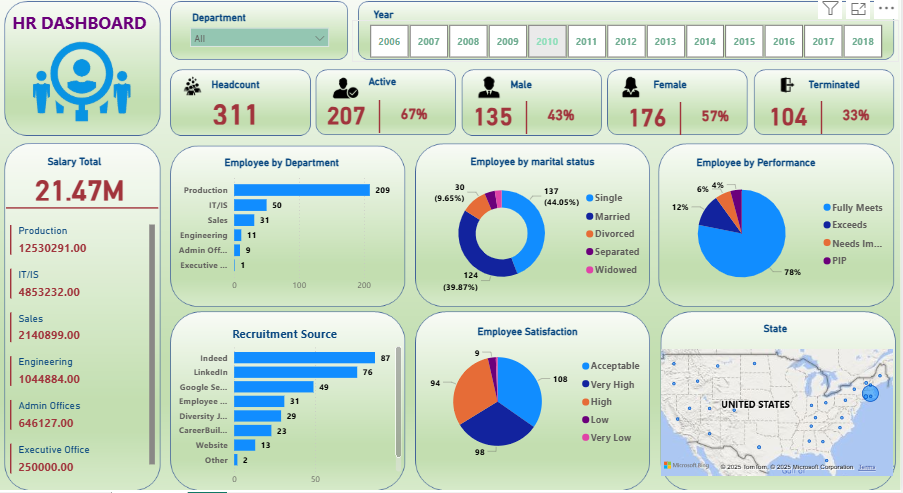

What the dashboard file says about the page in this screenshot:
{"tool":"powerbi","page":{"name":"Page 1","canvas":[1280,720],"ordinal":0},"visuals":[{"type":"textbox","box":[10,32.9,215.7,45.7],"z":0},{"type":"slicer","fields":{"Values":["HRData.Department"]},"box":[263.6,34,216.9,63.8],"z":1000},{"type":"slicer","fields":{"Values":["HRData.Hiring Year"]},"box":[503.1,51,775.3,59.5],"z":2000},{"type":"textbox","box":[528.7,29.8,42.5,32.6],"z":3000},{"type":"textbox","box":[299.1,129,97.8,32.6],"z":4000},{"type":"textbox","box":[521.6,124.7,97.8,32.6],"z":5000},{"type":"textbox","box":[925.5,129,87.9,32.6],"z":6000},{"type":"textbox","box":[1145.2,129,87.9,32.6],"z":7000},{"type":"textbox","box":[317.5,239.5,243.8,32.6],"z":8000},{"type":"textbox","box":[666.1,238.1,208.3,32.6],"z":9000},{"type":"textbox","box":[986.5,239.5,289.1,32.6],"z":10000},{"type":"textbox","box":[328.8,479.1,269.3,32.6],"z":11000},{"type":"textbox","box":[676.1,479.1,188.5,32.6],"z":12000},{"type":"textbox","box":[1081.4,474.3,98.6,32.9],"z":13000},{"type":"card","fields":{"Values":["All Measures.Headcount"]},"box":[276.4,157.3,124.7,46.8],"z":14000},{"type":"textbox","box":[722.8,129,87.9,32.6],"z":15000},{"type":"card","fields":{"Values":["All Measures.Active"]},"box":[432.3,160.2,124.7,46.8],"z":15000,"group":"g1"},{"type":"card","fields":{"Values":["All Measures.Male"]},"box":[640.6,161.9,124.7,46.8],"z":15000,"group":"g3"},{"type":"card","fields":{"Values":["All Measures.Terminated"]},"box":[1058.7,161.9,124.7,46.8],"z":15000,"group":"g2"},{"type":"card","fields":{"Values":["All Measures.Female"]},"box":[858.9,163,124.7,46.8],"z":15000,"group":"g4"},{"type":"group","id":"g1","title":"Group 1","box":[432.3,160.2,221.1,51],"z":16000},{"type":"card","fields":{"Values":["All Measures.Active %"]},"box":[528.7,160.2,124.7,46.8],"z":16000,"group":"g1"},{"type":"card","fields":{"Values":["All Measures.Male %"]},"box":[737,161.9,124.7,46.8],"z":16000,"group":"g3"},{"type":"card","fields":{"Values":["All Measures.Terminated %"]},"box":[1155.1,161.9,124.7,46.8],"z":16000,"group":"g2"},{"type":"card","fields":{"Values":["All Measures.Female %"]},"box":[955.3,163,124.7,46.8],"z":16000,"group":"g4"},{"type":"group","id":"g2","title":"Group 1","box":[1058.7,161.9,221.1,51],"z":17000},{"type":"shape","box":[521.6,164.5,41.1,46.8],"z":17000,"group":"g1"},{"type":"shape","box":[729.9,166.2,41.1,46.8],"z":17000,"group":"g3"},{"type":"shape","box":[1148,166.2,41.1,46.8],"z":17000,"group":"g2"},{"type":"shape","box":[948.2,167.3,41.1,46.8],"z":17000,"group":"g4"},{"type":"group","id":"g3","title":"Group 1","box":[640.6,161.9,221.1,51],"z":18000},{"type":"group","id":"g4","title":"Group 1","box":[858.9,163,221.1,51],"z":19000},{"type":"donutChart","fields":{"Y":["All Measures.Headcount"],"Category":["HRData.MaritalStatus"]},"box":[591,265,334.5,177.2],"z":20000},{"type":"clusteredBarChart","fields":{"Y":["All Measures.Headcount"],"Category":["HRData.Department"]},"box":[238.1,262.2,340.2,182.8],"z":21000},{"type":"pieChart","fields":{"Y":["All Measures.Headcount"],"Category":["HRData.PerformanceScore"]},"box":[935.4,262.2,340.2,182.8],"z":22000},{"type":"clusteredBarChart","fields":{"Y":["All Measures.Headcount"],"Category":["HRData.RecruitmentSource"]},"box":[238.1,500.3,340.2,219.7],"z":23000},{"type":"pieChart","fields":{"Y":["All Measures.Headcount"],"Category":["HRData.satisfaction status"]},"box":[585.4,500.3,340.2,182.8],"z":24000},{"type":"map","fields":{"Size":["All Measures.Headcount"],"Category":["HRData.State"]},"box":[935.7,511.4,340,190],"z":25000},{"type":"textbox","box":[67.1,238.6,98.6,32.9],"z":26000},{"type":"card","fields":{"Values":["All Measures.Salary"]},"box":[28.6,265.7,177.1,47.1],"z":27000},{"type":"shape","box":[12.9,242.9,215.7,150],"z":28000},{"type":"multiRowCard","fields":{"Values":["All Measures.Salary","HRData.Department"]},"box":[12.9,335.7,215.7,365.7],"z":29000},{"type":"image","box":[34,80.8,171.5,114.8],"z":30000},{"type":"image","box":[255.1,119.1,43.9,48.2],"z":31000},{"type":"image","box":[474.8,129,39.7,36.9],"z":32000},{"type":"image","box":[671.8,124.7,51,42.5],"z":33000},{"type":"image","box":[875.9,127.6,45.4,36.9],"z":34000},{"type":"image","box":[1077.2,120.5,86.5,45.4],"z":35000}]}

Visuals, with their boxes on the page's 1280x720 design canvas (x1, y1, x2, y2). These are canvas units, not pixel positions in the 903x493 screenshot, which may show the page scaled, cropped or inside an application window:
textbox: box=[10, 33, 226, 79]
slicer - HRData.Department: box=[264, 34, 480, 98]
slicer - HRData.Hiring Year: box=[503, 51, 1278, 110]
textbox: box=[529, 30, 571, 62]
textbox: box=[299, 129, 397, 162]
textbox: box=[522, 125, 619, 157]
textbox: box=[926, 129, 1013, 162]
textbox: box=[1145, 129, 1233, 162]
textbox: box=[318, 240, 561, 272]
textbox: box=[666, 238, 874, 271]
textbox: box=[986, 240, 1276, 272]
textbox: box=[329, 479, 598, 512]
textbox: box=[676, 479, 865, 512]
textbox: box=[1081, 474, 1180, 507]
card - All Measures.Headcount: box=[276, 157, 401, 204]
textbox: box=[723, 129, 811, 162]
card - All Measures.Active: box=[432, 160, 557, 207]
card - All Measures.Male: box=[641, 162, 765, 209]
card - All Measures.Terminated: box=[1059, 162, 1183, 209]
card - All Measures.Female: box=[859, 163, 984, 210]
"Group 1" group: box=[432, 160, 653, 211]
card - All Measures.Active %: box=[529, 160, 653, 207]
card - All Measures.Male %: box=[737, 162, 862, 209]
card - All Measures.Terminated %: box=[1155, 162, 1280, 209]
card - All Measures.Female %: box=[955, 163, 1080, 210]
"Group 1" group: box=[1059, 162, 1280, 213]
shape: box=[522, 164, 563, 211]
shape: box=[730, 166, 771, 213]
shape: box=[1148, 166, 1189, 213]
shape: box=[948, 167, 989, 214]
"Group 1" group: box=[641, 162, 862, 213]
"Group 1" group: box=[859, 163, 1080, 214]
donutChart - All Measures.Headcount x HRData.MaritalStatus: box=[591, 265, 926, 442]
clusteredBarChart - All Measures.Headcount x HRData.Department: box=[238, 262, 578, 445]
pieChart - All Measures.Headcount x HRData.PerformanceScore: box=[935, 262, 1276, 445]
clusteredBarChart - All Measures.Headcount x HRData.RecruitmentSource: box=[238, 500, 578, 720]
pieChart - All Measures.Headcount x HRData.satisfaction status: box=[585, 500, 926, 683]
map - All Measures.Headcount x HRData.State: box=[936, 511, 1276, 701]
textbox: box=[67, 239, 166, 272]
card - All Measures.Salary: box=[29, 266, 206, 313]
shape: box=[13, 243, 229, 393]
multiRowCard - All Measures.Salary x HRData.Department: box=[13, 336, 229, 701]
image: box=[34, 81, 206, 196]
image: box=[255, 119, 299, 167]
image: box=[475, 129, 514, 166]
image: box=[672, 125, 723, 167]
image: box=[876, 128, 921, 164]
image: box=[1077, 120, 1164, 166]
